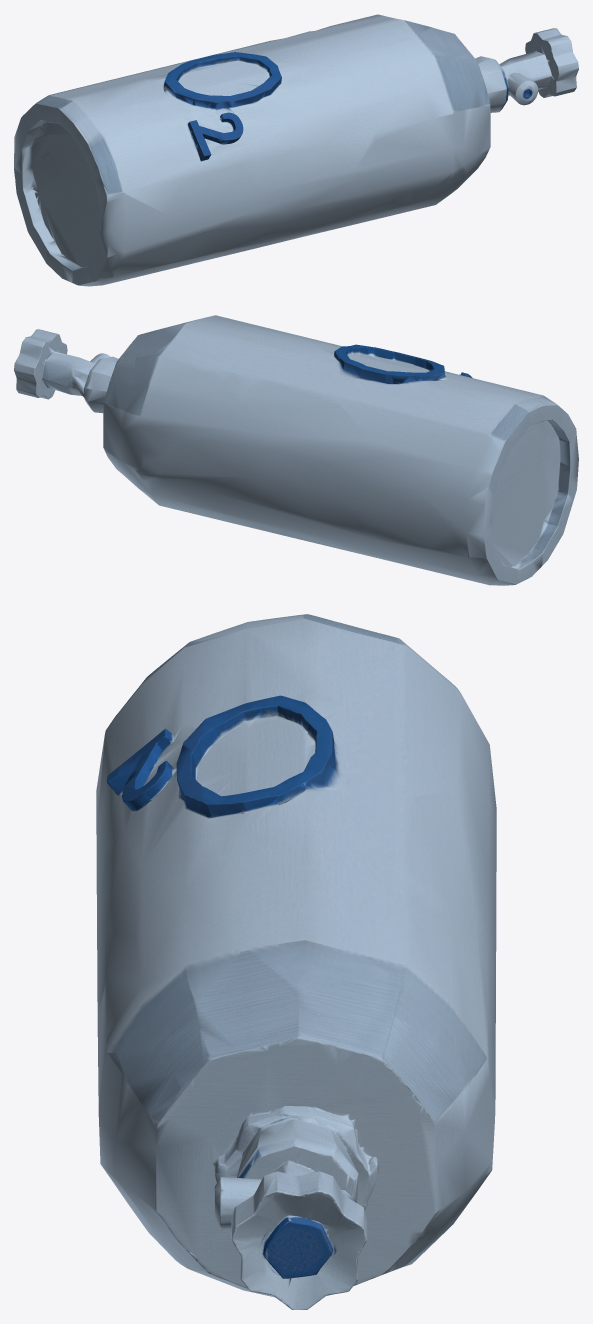
3 views of the same model, one above another, from view 1: azimuth 30°, elevation 25°; view 2: azimuth 150°, elevation 25°; view 3: azimuth 270°, elevation 25° (orthographic). The views are drawn at different scales.
Bounding box in the file's own units: 0.8551 × 0.3 × 0.2965.
Materials: 1 (1 with a texture image).
